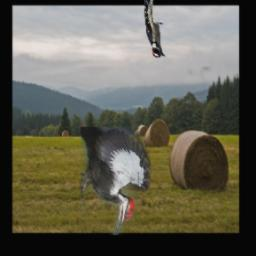Woodpecker: (80, 127, 150, 235), (144, 0, 166, 58)
